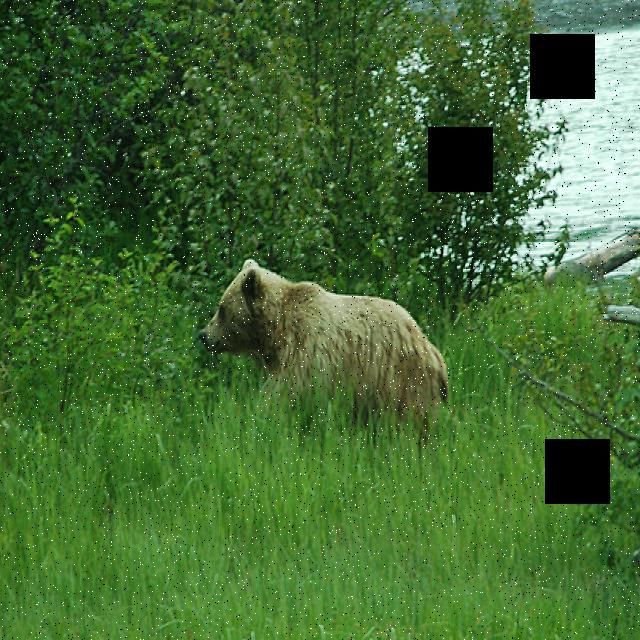Bear: (185, 236, 456, 424)
